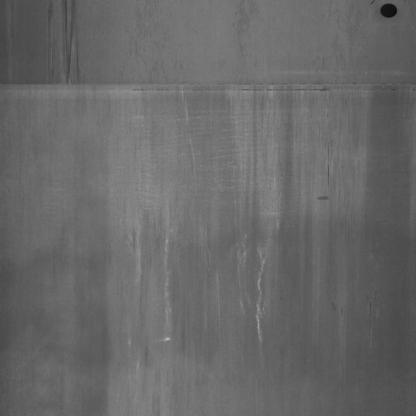punching_hole: (380, 0, 397, 22)
welding_line: (1, 66, 415, 107)
